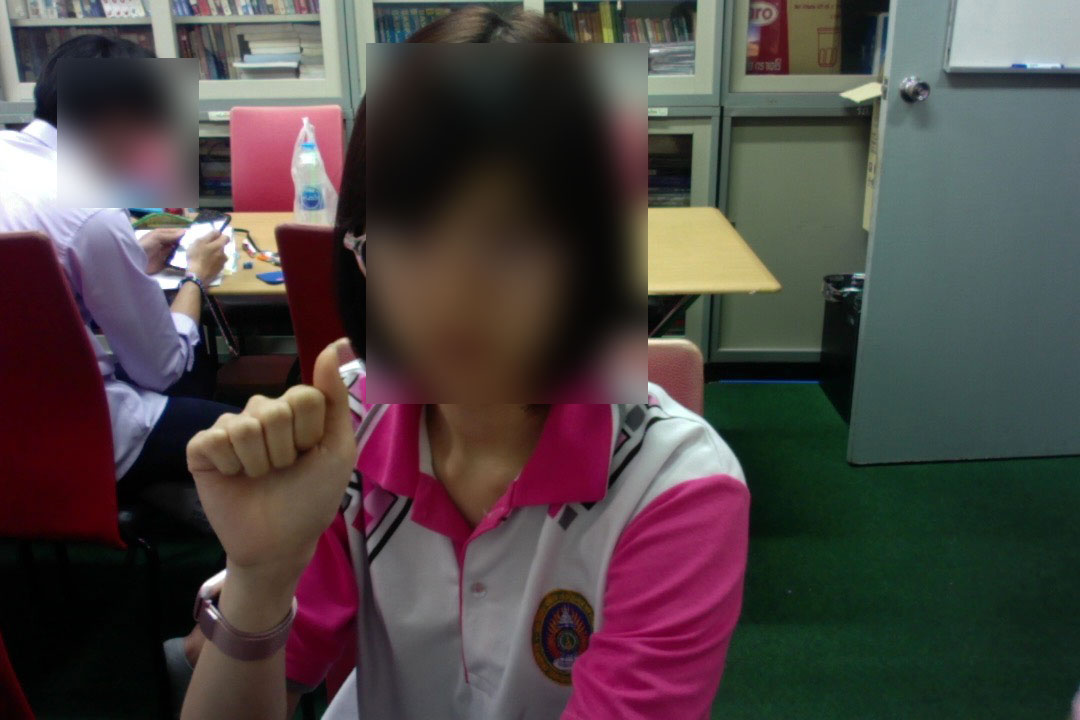or: (177, 340, 367, 579)
